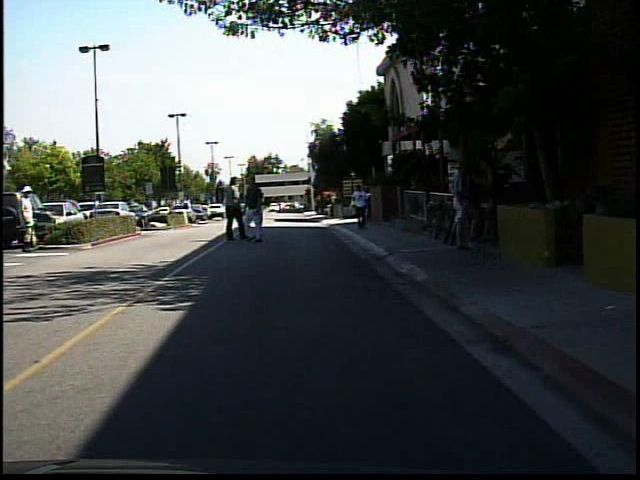person: (443, 150, 481, 255), (474, 158, 501, 250), (220, 173, 253, 246), (236, 177, 271, 244), (18, 183, 45, 253), (348, 180, 373, 236), (181, 193, 197, 223), (246, 197, 261, 221)
